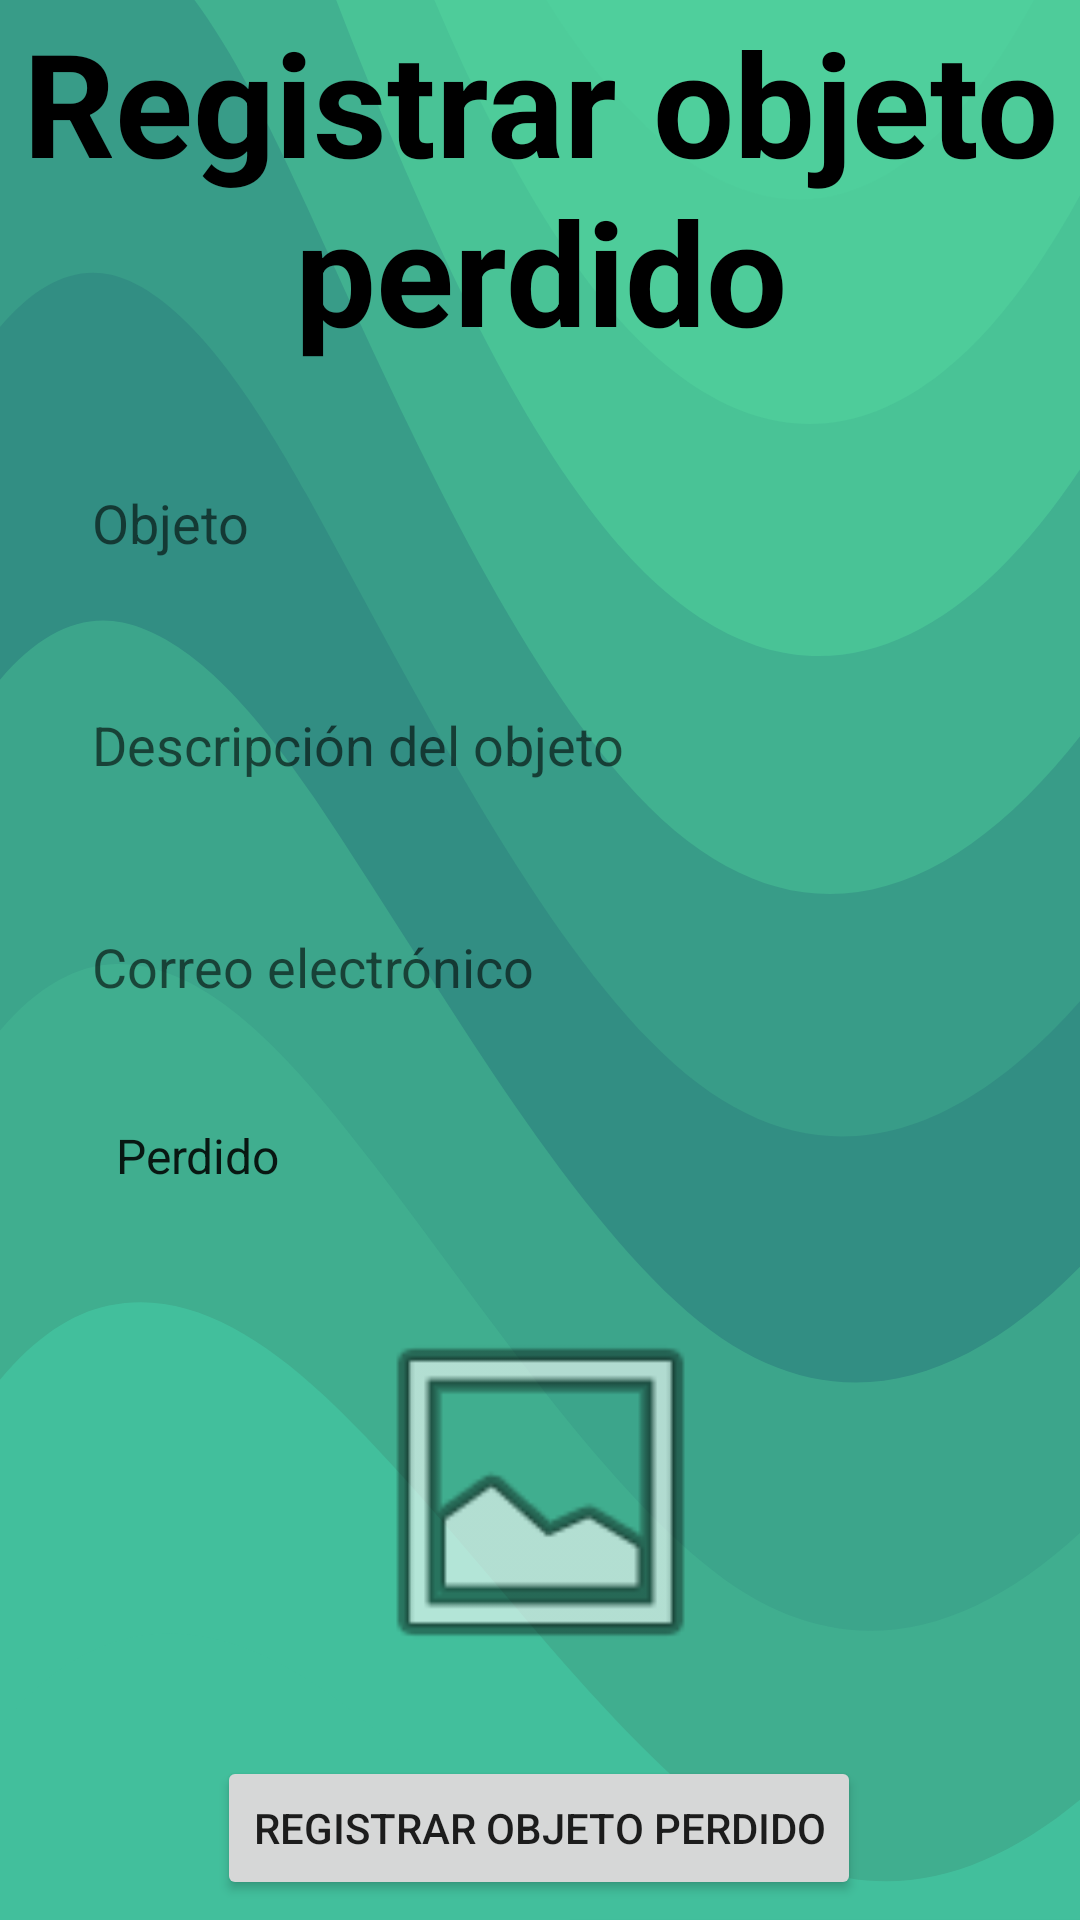

Named icons in this screenshot (1080w x 1920h) and their centers, (x,y):
gallery: (563,1462)
